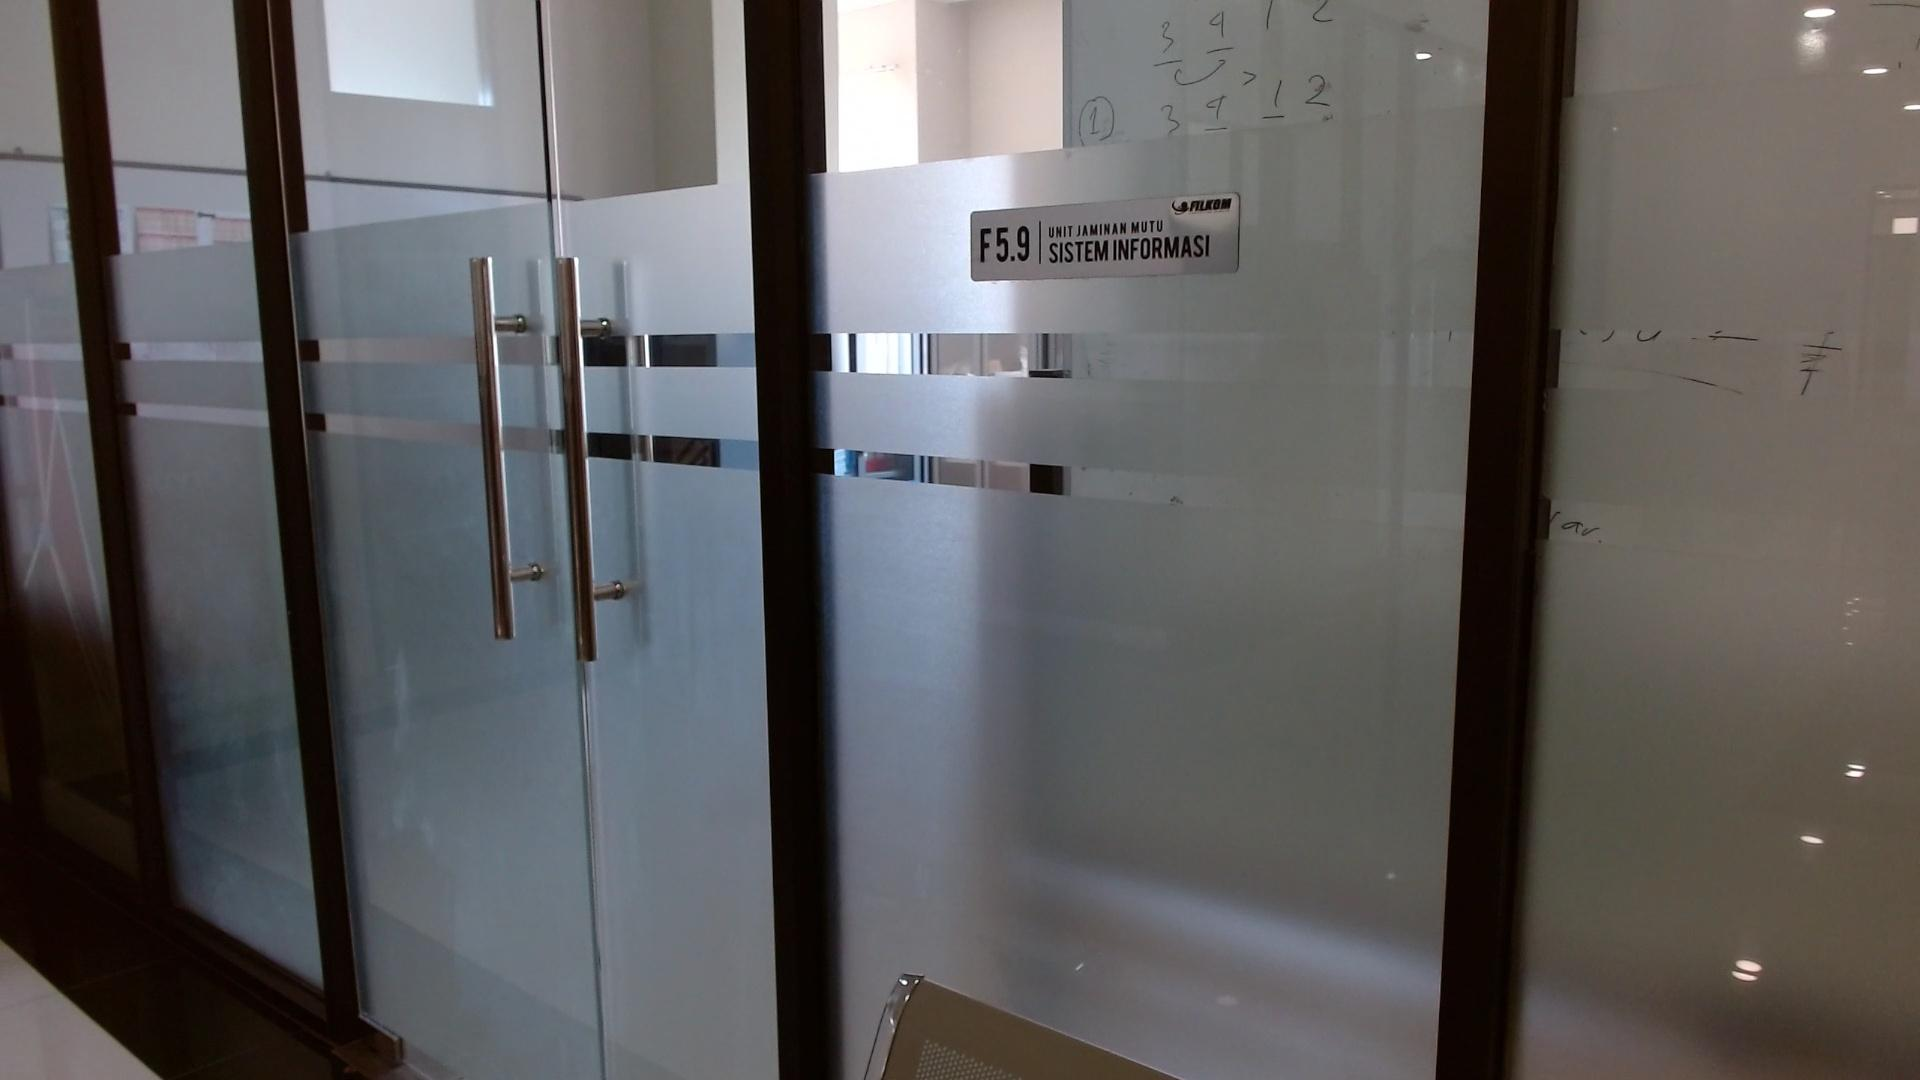plate: (971, 191, 1241, 282)
